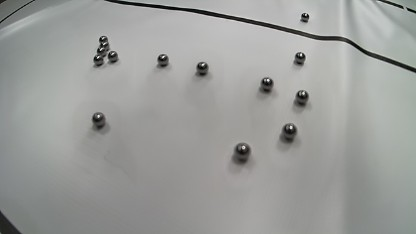ironball: (233, 142, 251, 162), (281, 123, 297, 140), (91, 112, 105, 128), (295, 90, 309, 105), (260, 77, 273, 91), (196, 61, 209, 74), (157, 53, 169, 66), (107, 51, 118, 63), (295, 52, 306, 64), (93, 54, 104, 66), (96, 46, 106, 57), (100, 41, 109, 51), (301, 13, 309, 22), (99, 35, 108, 43)
